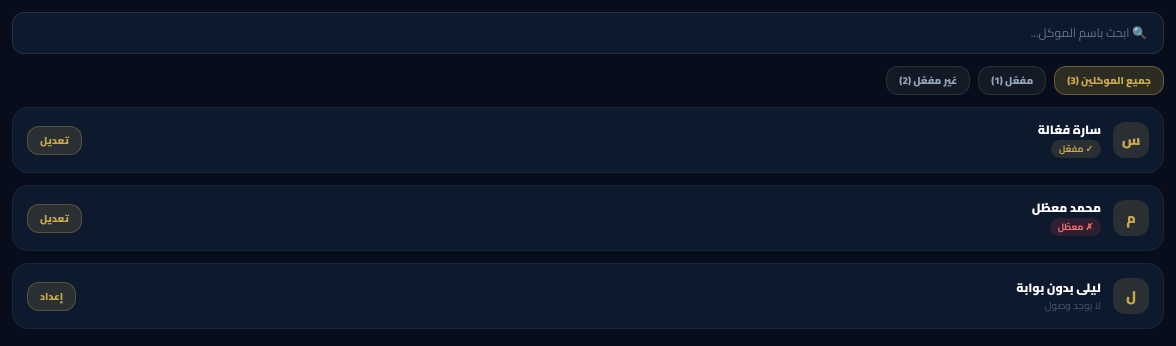
Test: PortalSection — تابات الحالة (الكل / مفعّل / غير مفعّل) › تبديل التاب من "الكل" لـ"مفعّل" وبالعكس بيحدّث القائمة كل مرة (مش state متجمّد)
The image size is (1176, 346).
Click the button with test id "admin-portal-tab-active".
click(1012, 80)  # box [978,66,1046,95]
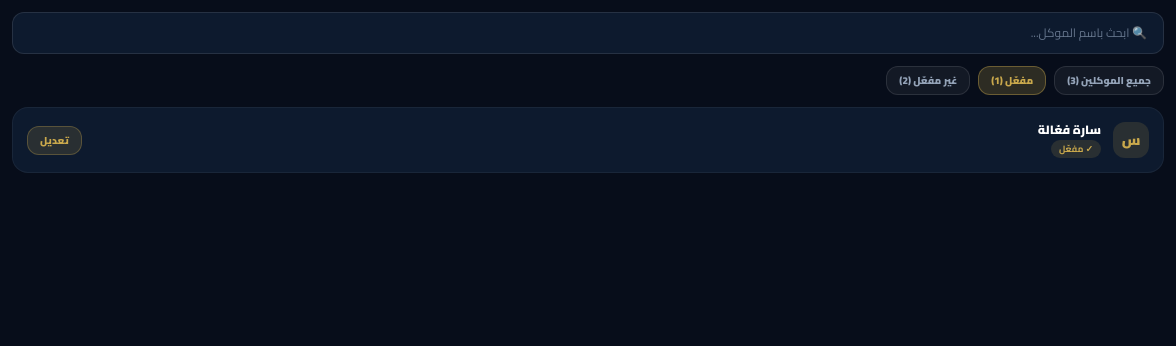
Result: the number of elements with test id "admin-portal-card" is 1 at [12,107,1164,173]
Click the button with test id "admin-portal-tab-all".
click(1109, 80)  # box [1054,66,1164,95]
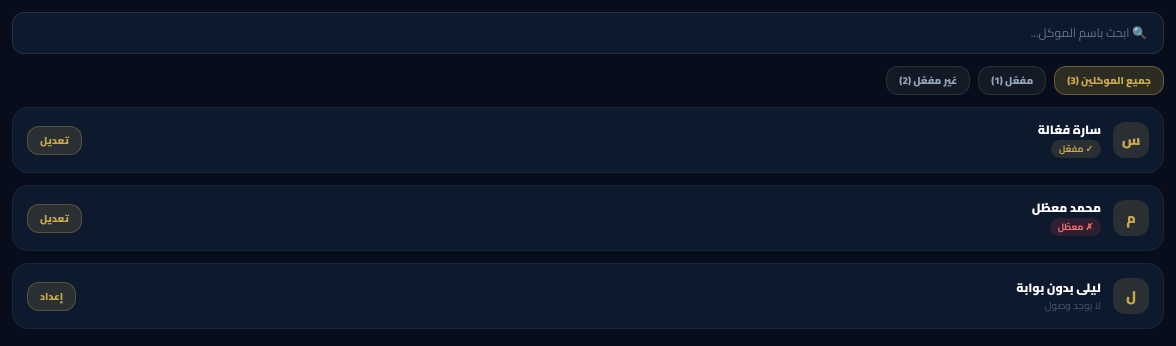
Result: the number of elements with test id "admin-portal-card" is 3 at [12,107,1164,173]; [12,185,1164,251]; [12,263,1164,329]
